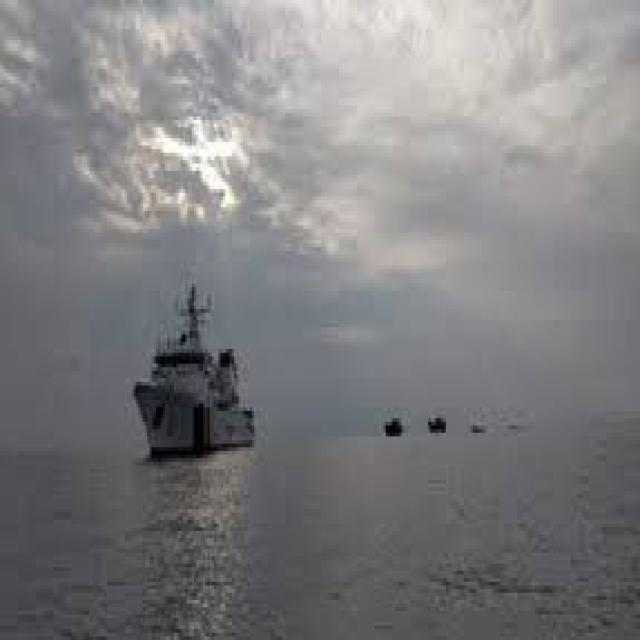navalvessels: (110, 262, 264, 460)
